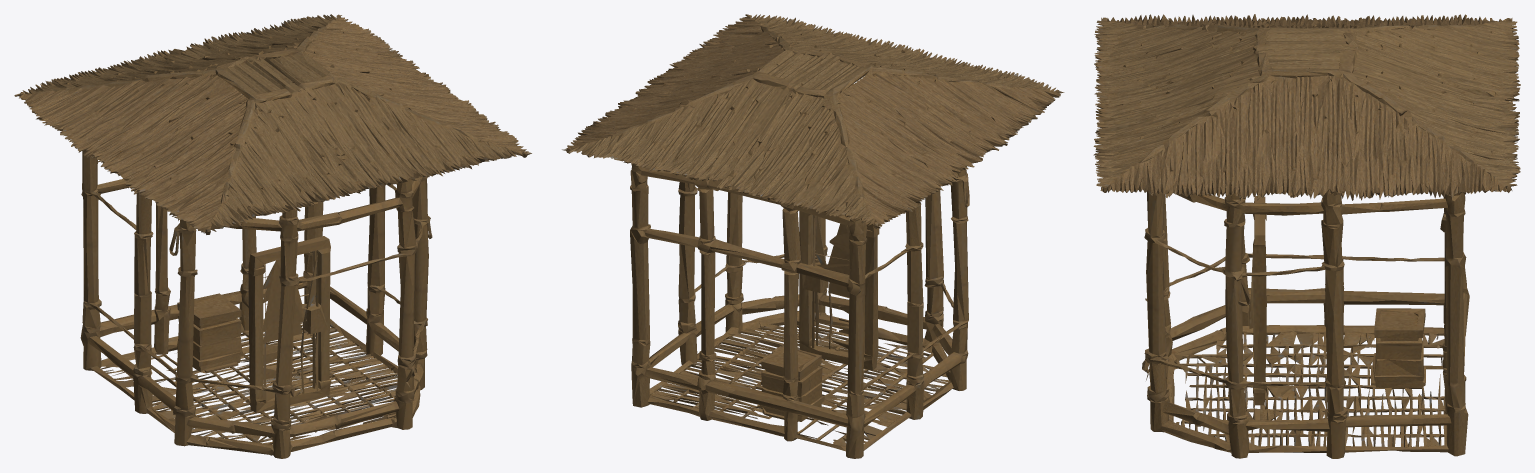
File: cage_raw.glb
The picture shows the model from 3 angles, left to right: view 1: azimuth 30°, elevation 25°; view 2: azimuth 150°, elevation 25°; view 3: azimuth 270°, elevation 25°; orthographic projection. The views are drawn at different scales.
Bounding box in the file's own units: 1.9 × 1.7 × 1.89.
1 material, 1 textured.
